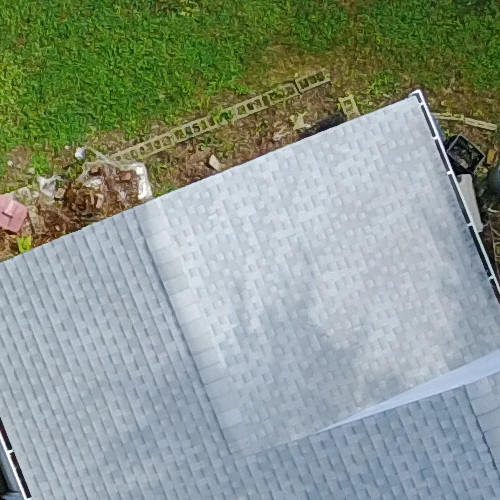container: (439, 124, 489, 175)
